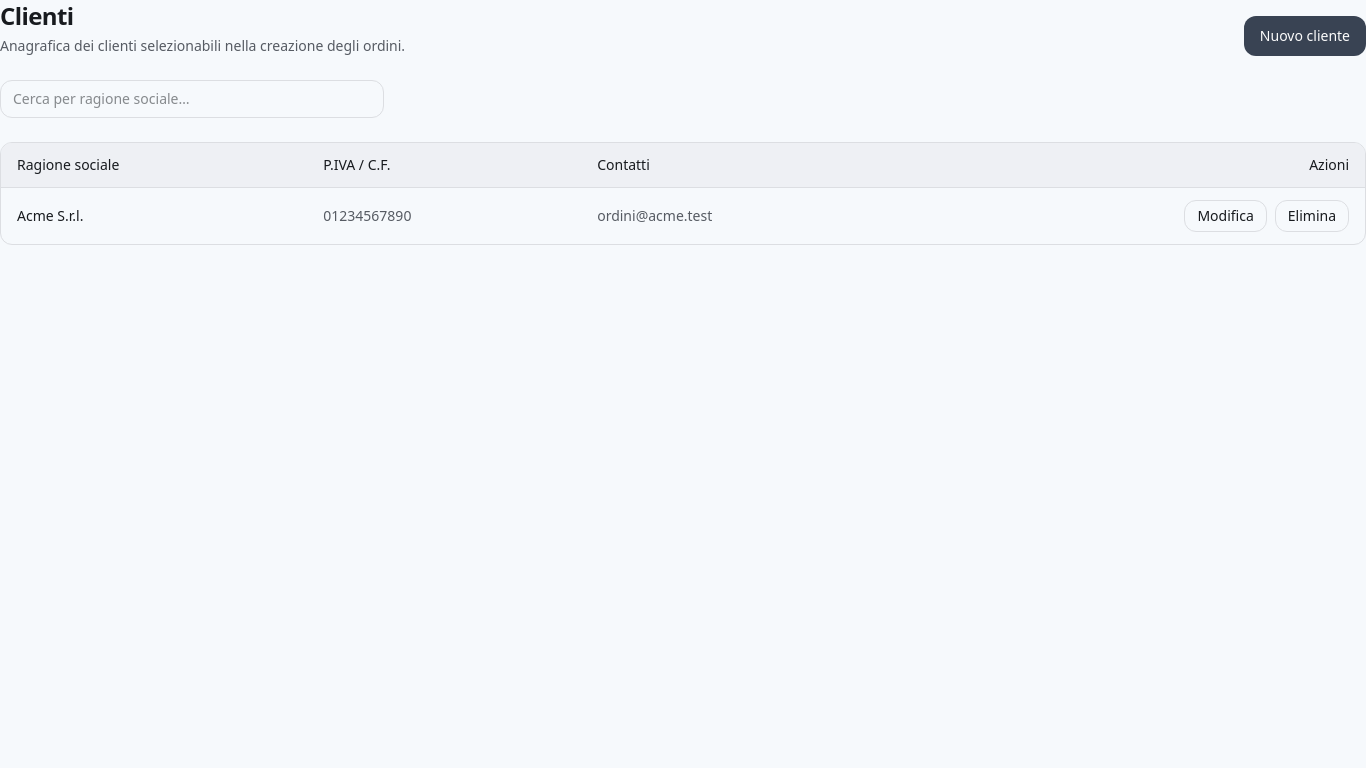
ClientiView › elimina un cliente previa conferma e riporta il focus su «Nuovo cliente»
Expected: the text "Acme S.r.l." is shown, [1,188,307,244]
What coordinates should you click on to do the following:
click the button "Elimina"
I would click on:
 (1312, 216)
Its box is [1275,200,1349,232].
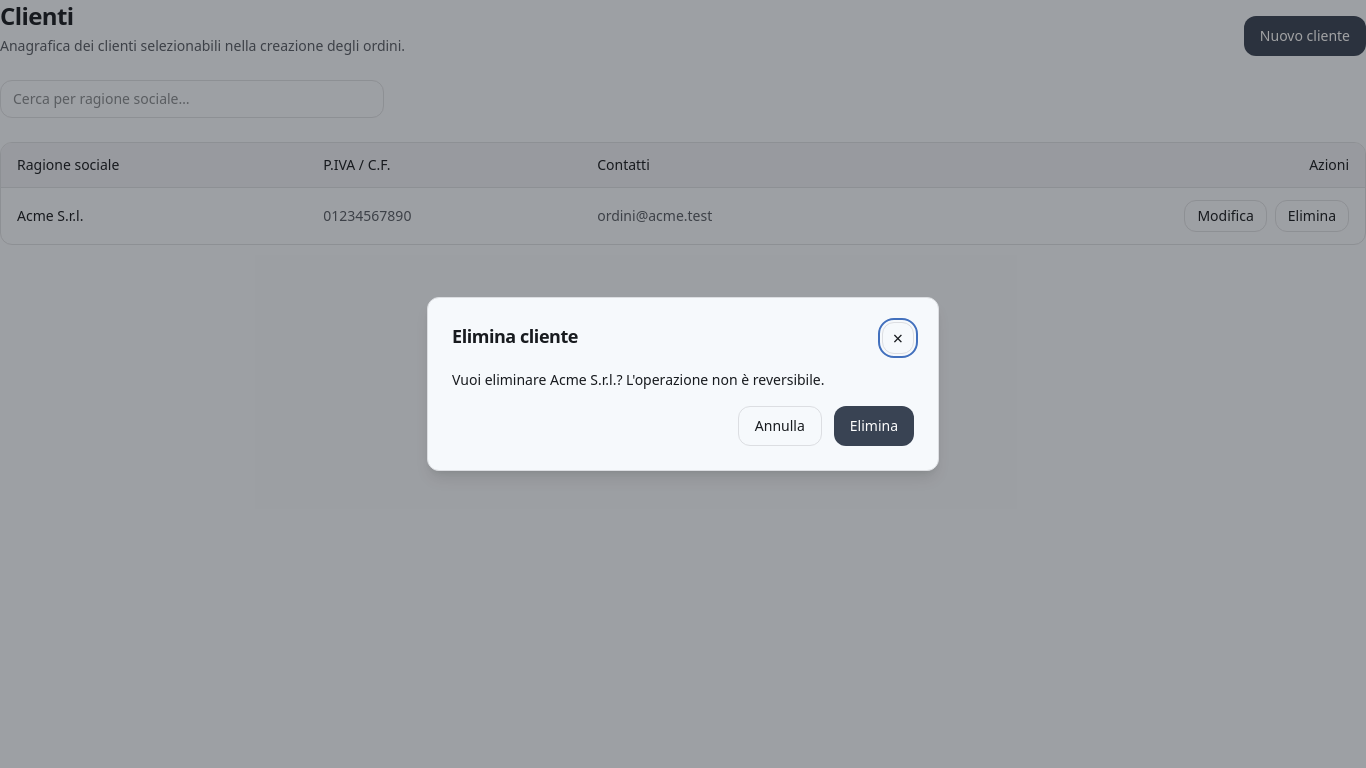
Expected: the dialog shows "non è reversibile", [616,370,824,389]
What coordinates should you click on to do the following:
click the button "Elimina"
I would click on:
 (874, 426)
Its box is [834,406,914,446].
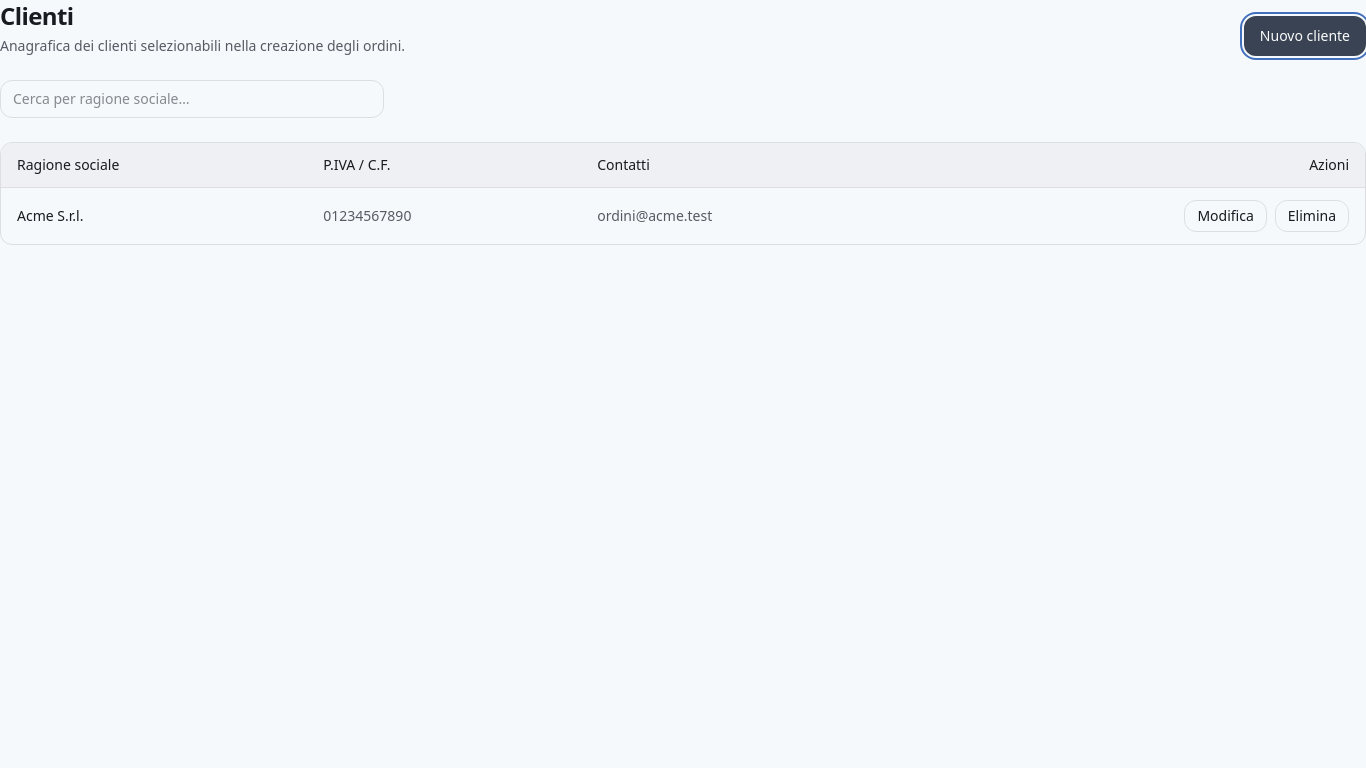
Expected: the dialog is gone
